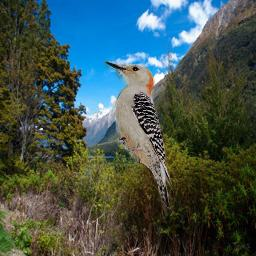Woodpecker: (103, 54, 178, 216)
